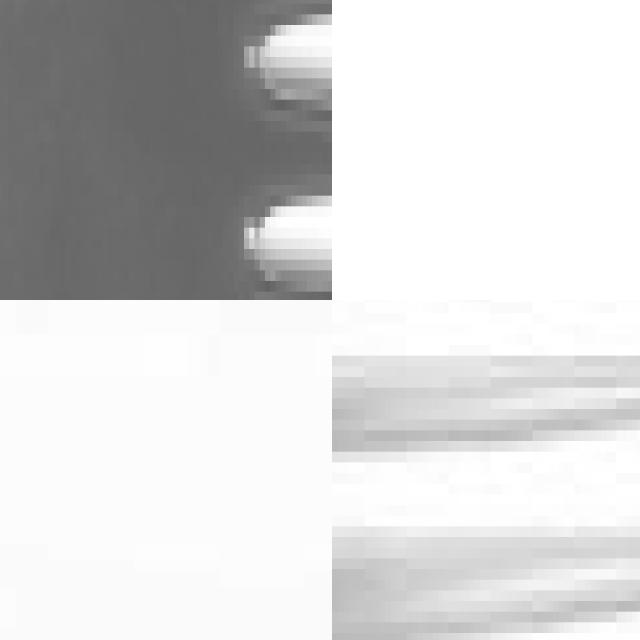forks: (332, 300, 640, 640), (0, 0, 332, 300)
